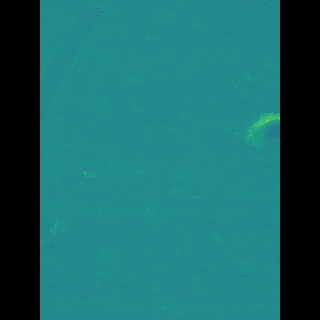Loch: (69, 0, 120, 135), (218, 104, 251, 152)
